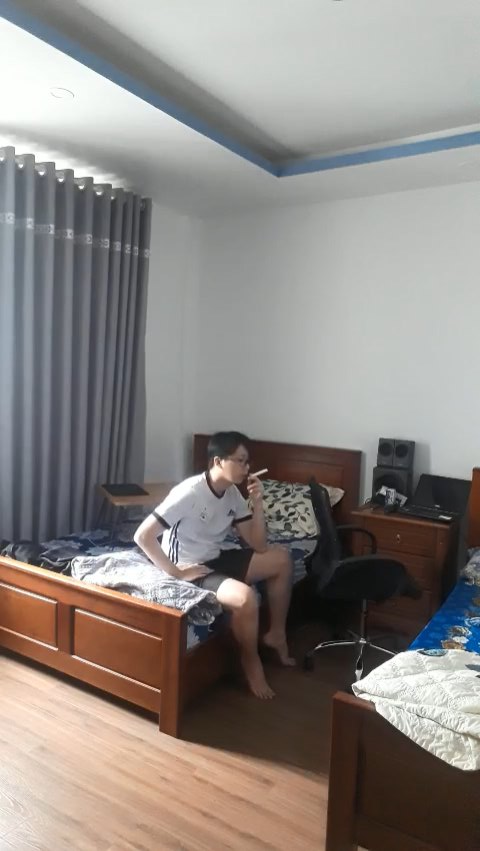cigarette: (253, 466, 268, 476)
person: (135, 419, 303, 713)
